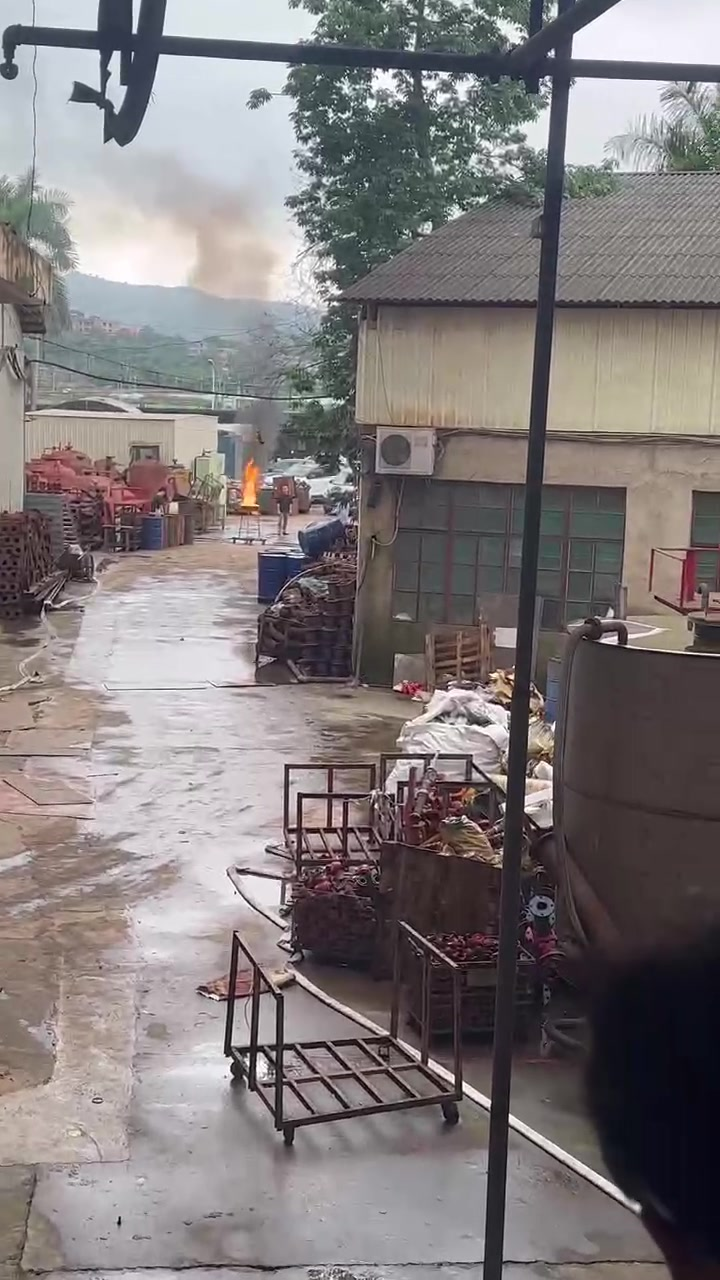fire: (240, 457, 259, 505)
